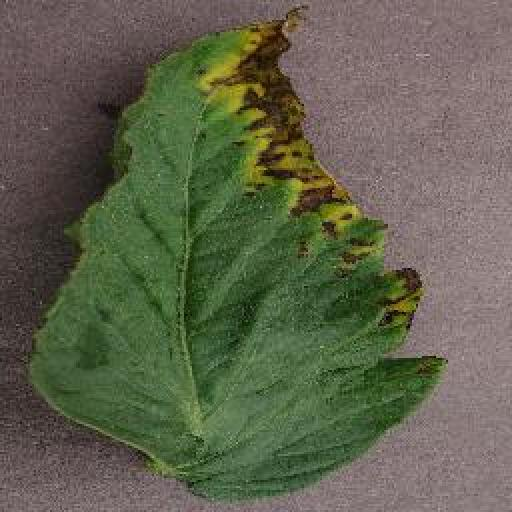Bacterial Spot: (20, 0, 454, 504)
